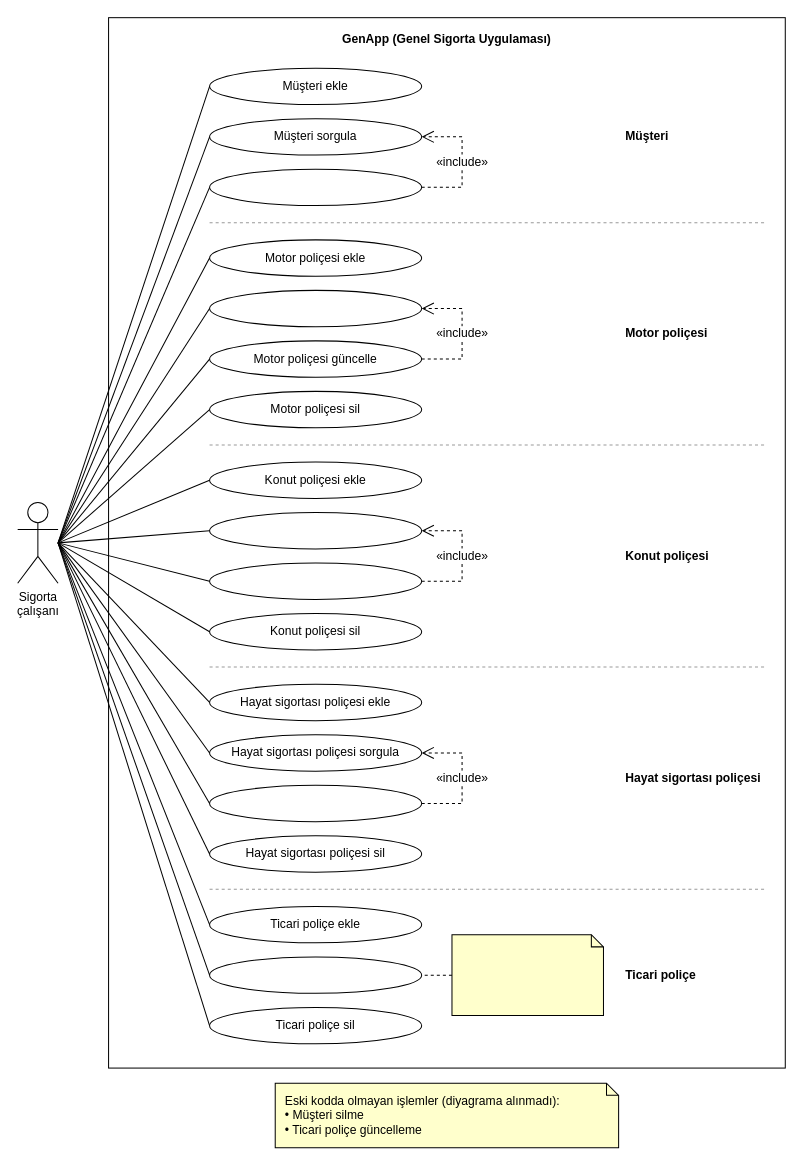
The diagram is 803 pixels wide and 1166 high, and some of its shapes have lost their labels. The shapes that lost their labels are listed below. From the top down, each one's centre as x and y in pixels, then its label:
At (315,187): "Müşteri güncelle".
At (315,308): "Motor poliçesi sorgula".
At (315,530): "Konut poliçesi sorgula".
At (315,580): "Konut poliçesi güncelle".
At (315,803): "Hayat sigortası poliçesi güncelle".
At (315,974): "Ticari poliçe sorgula".
At (527,975): "4 sorgulama biçimi: müşteri+poliçe no, poliçe no, müşteri no, posta kodu".
